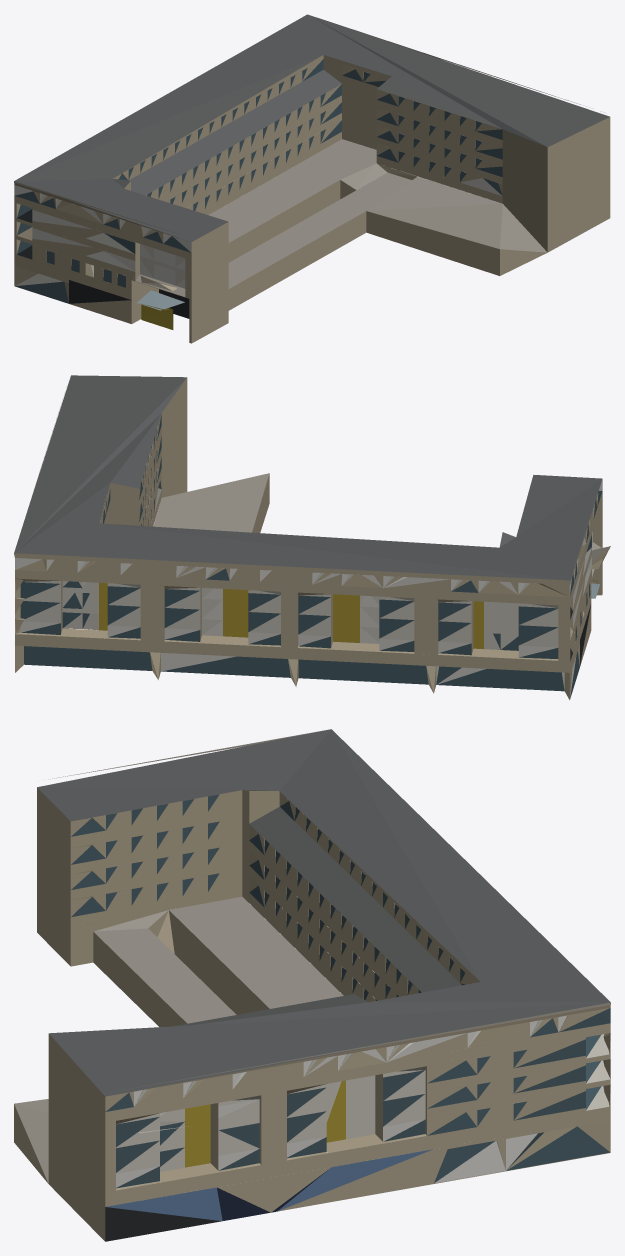
File: kinkerstraat-89.lod2.glb
3 renders of one model, top to bottom at view 1: azimuth 30°, elevation 25°; view 2: azimuth 150°, elevation 25°; view 3: azimuth 270°, elevation 25°, orthographic. The views are drawn at different scales.
Visible parts, largest first — view 1: lod2; view 2: lod2; view 3: lod2.
Part boxes in pixels (x1,y1,x2,y2): lod2: [14, 14, 610, 343]; lod2: [14, 375, 610, 700]; lod2: [14, 729, 610, 1241].
Size of the model in its own units: 80.11 by 15.59 by 55.85.
